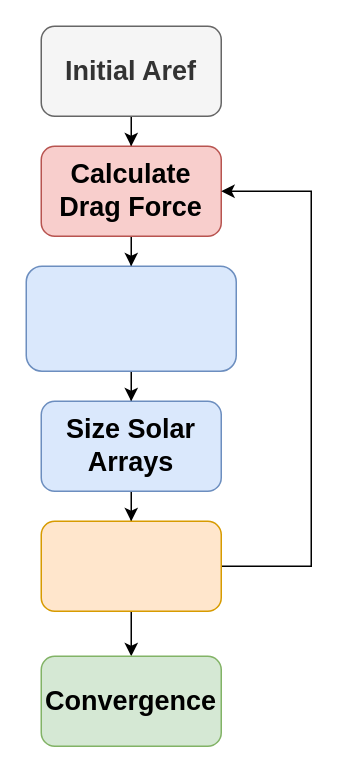
Image size: 350x773. Some labels were removed from this diagram. Each missing label, with the centre of its shape:
Calculate New Aref: the point at 130,565
Calculate Power Requirement: the point at 130,318
